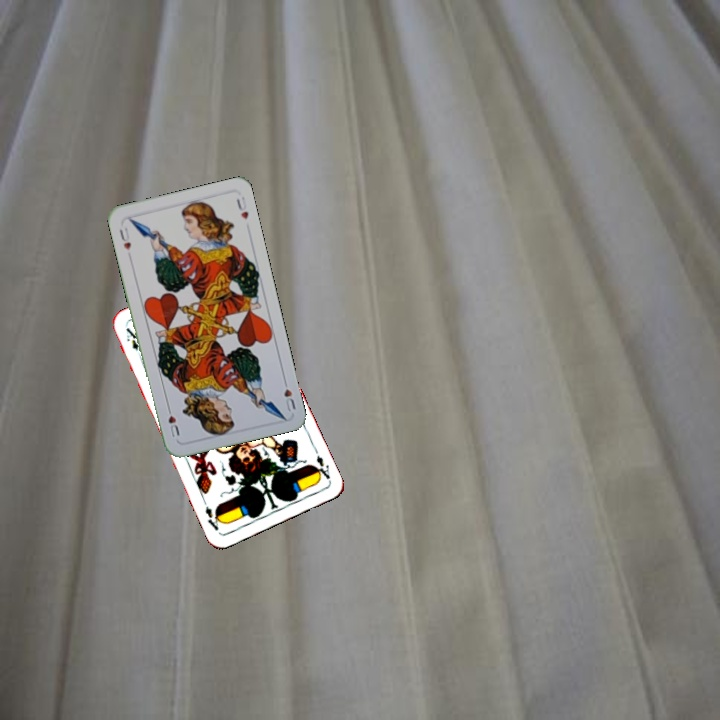EA: (309, 451, 333, 483), (122, 323, 142, 353)
HU: (277, 374, 298, 414), (115, 224, 133, 253)
